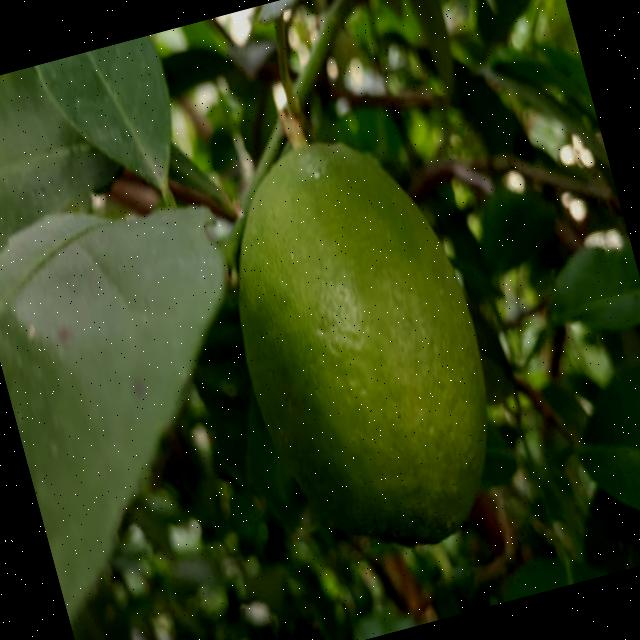Unripe: (194, 112, 525, 581)
